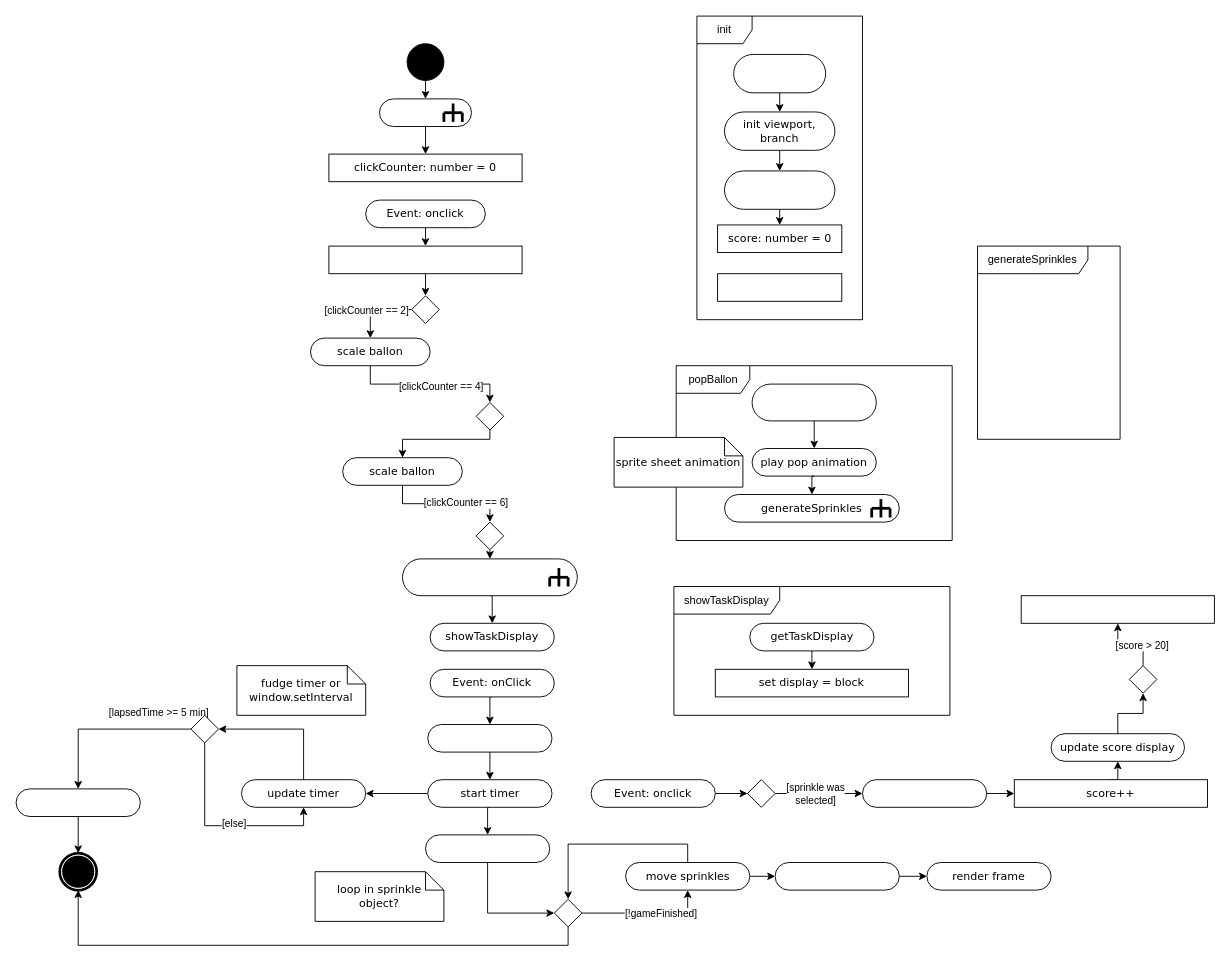
The diagram is 1231 pixels wide and 969 high, and some of its shapes have lost their labels. The shapes that lost their labels are listed below. From the top down, each one's centre as x and y in pixels, then its label:
(x=779, y=73): canvas init
(x=425, y=112): init()
(x=779, y=189): load and scale ballon
(x=425, y=259): clickCounter++;
(x=779, y=287): sprinkleSpeed: number = 1
(x=813, y=402): delete ballon from branch
(x=489, y=577): pop ballon and create sprinkles
(x=1117, y=609): increment sprinkle speed
(x=489, y=738): undisplay task display
(x=77, y=802): display end screen
(x=924, y=793): remove sprinkle
(x=487, y=848): start loop
(x=836, y=876): generate new sprinkles
